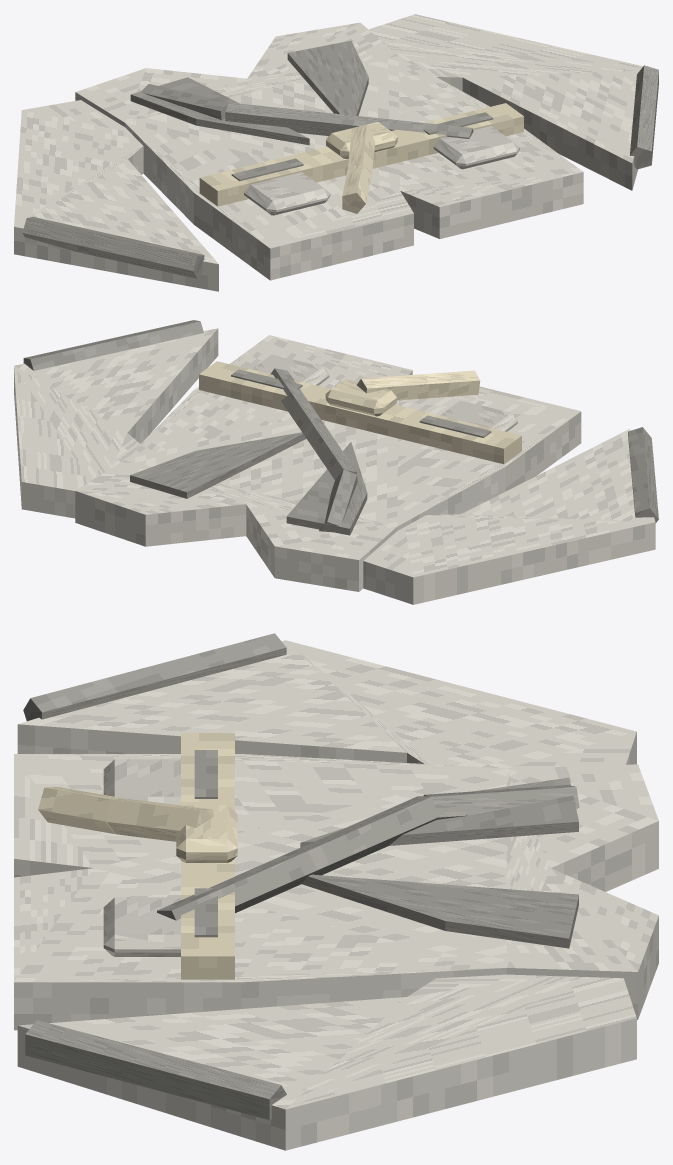
Rendered from keikogi.glb.
The picture shows the model from 3 angles, top to bottom: view 1: azimuth 30°, elevation 25°; view 2: azimuth 150°, elevation 25°; view 3: azimuth 270°, elevation 25°; orthographic projection. The views are drawn at different scales.
Visible parts, largest first — view 1: block_coat body, block_sleeve (×2), block_lapel (×2), block_cuff 0 (×2), block_tied sash, block_patch pocket (×2), block_crossed lapel 1, block_crossed lapel 0, block_sash knot, block_sash ends 1, block_pocket welt (×2), block_sash ends 0; view 2: block_coat body, block_sleeve (×2), block_tied sash, block_lapel (×2), block_cuff 0 (×2), block_crossed lapel 1, block_patch pocket (×2), block_sash knot, block_sash ends 0, block_sash ends 1, block_crossed lapel 0, block_pocket welt (×2); view 3: block_coat body, block_sleeve (×2), block_lapel (×2), block_cuff 0 (×2), block_crossed lapel 1, block_tied sash, block_patch pocket (×2), block_sash ends 0, block_crossed lapel 0, block_sash knot, block_sash ends 1, block_pocket welt (×2).
Boxes of the visible parts, x1=… form: block_coat body: x1=75, y1=22, x2=583, y2=280; block_sleeve (×2): x1=14, y1=14, x2=657, y2=291; block_lapel (×2): x1=130, y1=40, x2=368, y2=145; block_cuff 0 (×2): x1=22, y1=65, x2=658, y2=278; block_tied sash: x1=199, y1=103, x2=523, y2=206; block_patch pocket (×2): x1=244, y1=126, x2=519, y2=215; block_crossed lapel 1: x1=225, y1=102, x2=473, y2=138; block_crossed lapel 0: x1=141, y1=84, x2=228, y2=119; block_sash knot: x1=326, y1=122, x2=397, y2=158; block_sash ends 1: x1=342, y1=163, x2=371, y2=213; block_pocket welt (×2): x1=231, y1=112, x2=493, y2=181; block_sash ends 0: x1=348, y1=124, x2=374, y2=173; block_coat body: x1=75, y1=335, x2=581, y2=591; block_sleeve (×2): x1=14, y1=328, x2=655, y2=604; block_tied sash: x1=199, y1=361, x2=521, y2=464; block_lapel (×2): x1=130, y1=432, x2=367, y2=535; block_cuff 0 (×2): x1=23, y1=320, x2=658, y2=522; block_crossed lapel 1: x1=271, y1=368, x2=356, y2=480; block_patch pocket (×2): x1=251, y1=354, x2=517, y2=431; block_sash knot: x1=325, y1=379, x2=396, y2=416; block_sash ends 0: x1=357, y1=374, x2=429, y2=400; block_sash ends 1: x1=424, y1=370, x2=480, y2=398; block_crossed lapel 0: x1=319, y1=470, x2=357, y2=532; block_pocket welt (×2): x1=231, y1=369, x2=491, y2=437; block_coat body: x1=14, y1=754, x2=658, y2=1030; block_sleeve (×2): x1=17, y1=640, x2=636, y2=1150; block_lapel (×2): x1=300, y1=777, x2=578, y2=948; block_cuff 0 (×2): x1=23, y1=633, x2=286, y2=1120; block_crossed lapel 1: x1=157, y1=796, x2=438, y2=920; block_tied sash: x1=181, y1=733, x2=234, y2=979; block_patch pocket (×2): x1=103, y1=759, x2=180, y2=956; block_sash ends 0: x1=106, y1=798, x2=213, y2=841; block_crossed lapel 0: x1=423, y1=785, x2=579, y2=819; block_sash knot: x1=176, y1=805, x2=237, y2=862; block_sash ends 1: x1=38, y1=786, x2=123, y2=833; block_pocket welt (×2): x1=194, y1=750, x2=217, y2=937.
Size of the model in its own units: 0.4316 by 0.0459 by 0.2506.
Materials: 1 (1 with a texture image).
